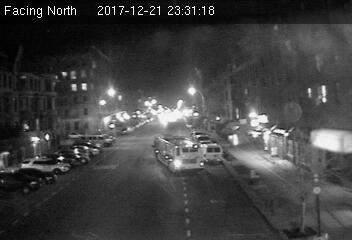bus: (152, 134, 203, 175)
truck: (203, 142, 222, 164)
